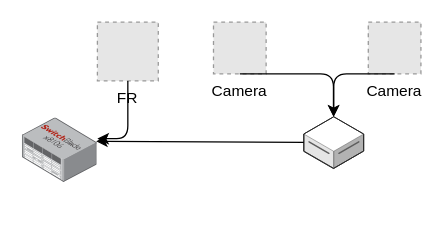
This 448x232 diagram has some shape labels left out. Grey dashed boxes stand in for pictures. Here are the shapes that lost their labels. From the top down, the box of each, then its label:
(22, 117, 97, 182): Switch
(303, 115, 364, 168): Video Edgebox
